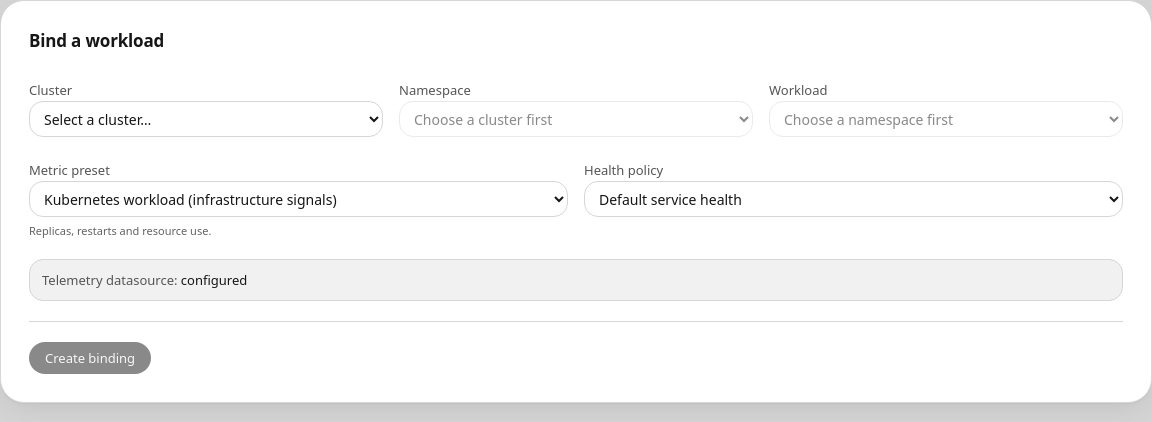
Test: binding form › clears the namespace and workload when the cluster changes
This screenshot has width=1152, height=422.
Select "Cluster A" in the dropdown labelled "Cluster" at (206, 119), box [29,101,383,137]
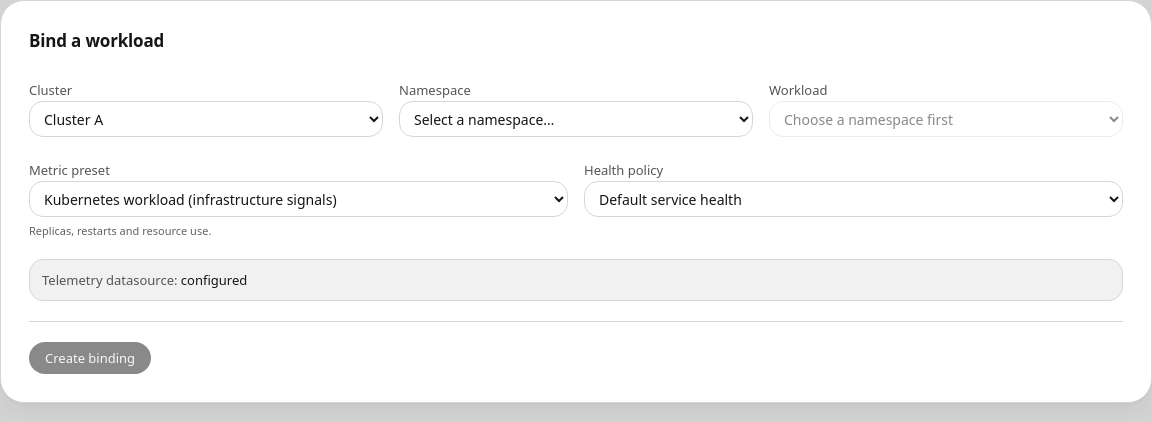
Now the dropdown labelled "Namespace" is enabled
Select "hermes-dev" in the dropdown labelled "Namespace" at (576, 119), box [399,101,753,137]
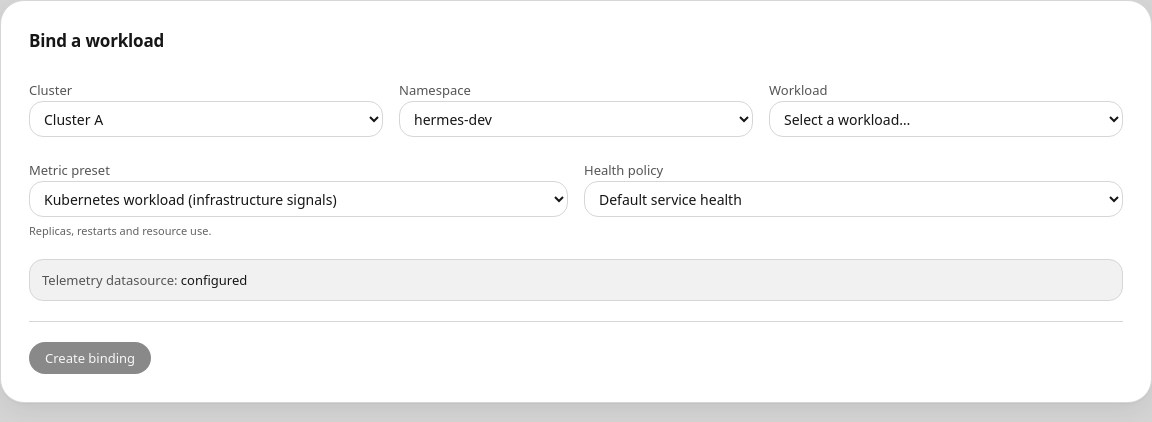
Now the dropdown labelled "Workload" is enabled
Select "Deployment · hermes-api" in the dropdown labelled "Workload" at (946, 119), box [769,101,1123,137]
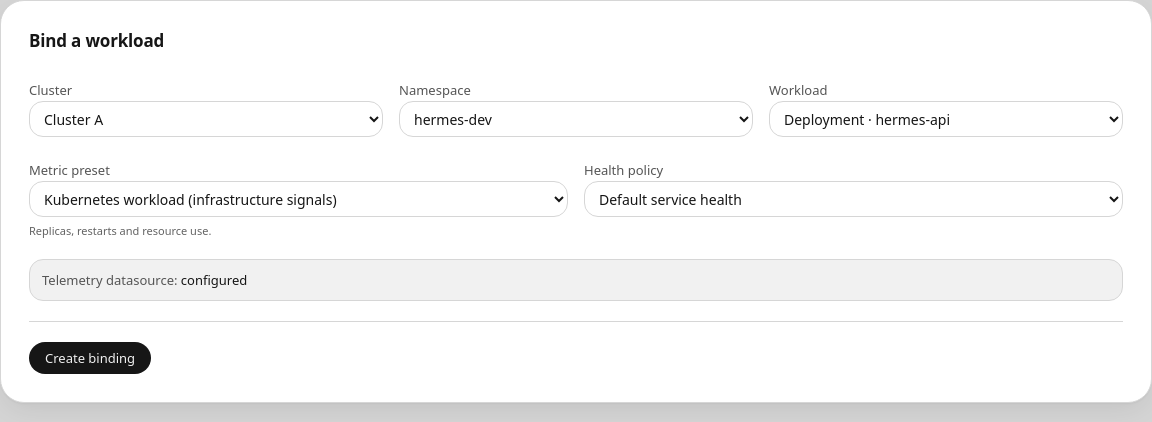
Select "Select a cluster…" in the dropdown labelled "Cluster" at (206, 119), box [29,101,383,137]
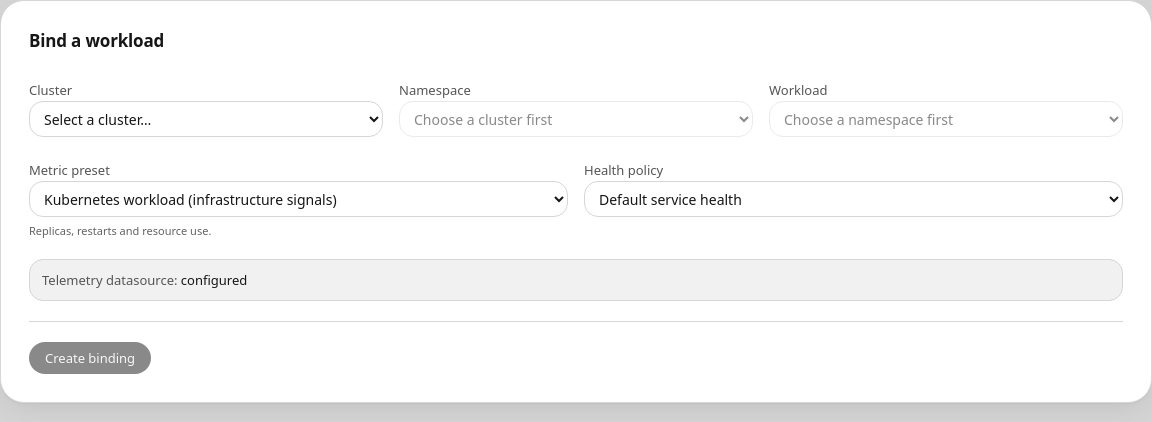
Now the dropdown labelled "Workload" is disabled, box [769,101,1123,137]
